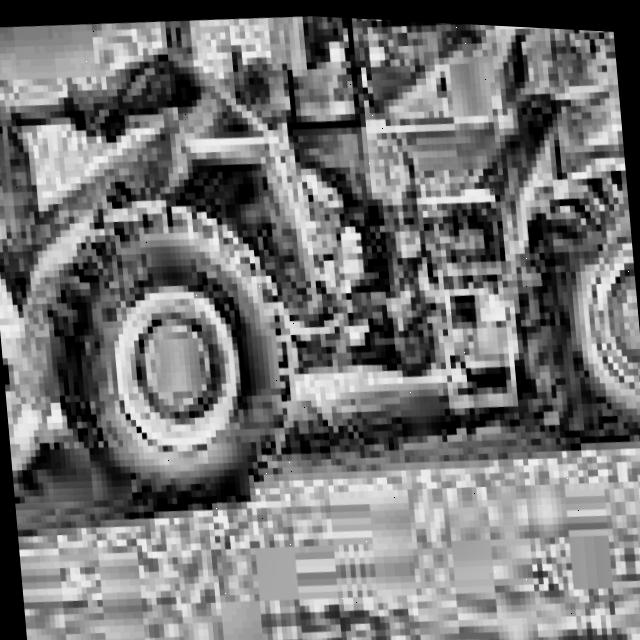buldozerpayloadergrader: (0, 0, 640, 600)
